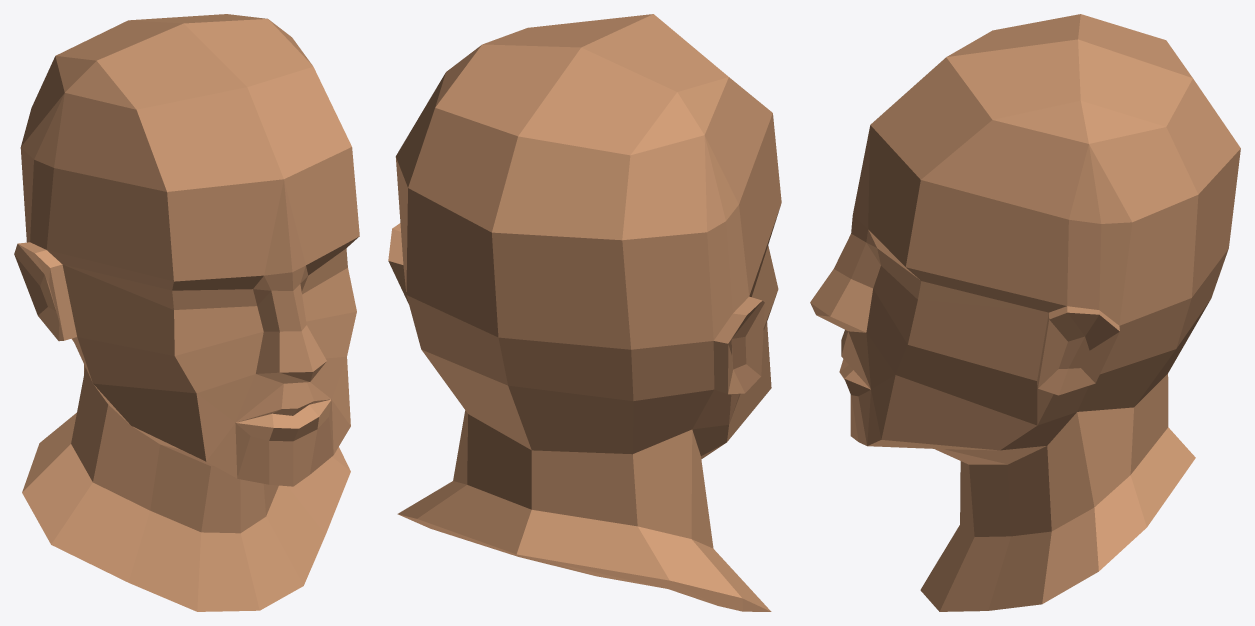
The model's file is low_poly_head_bust_ccby_rindir.glb.
3 renders of one model, left to right at view 1: azimuth 30°, elevation 25°; view 2: azimuth 150°, elevation 25°; view 3: azimuth 270°, elevation 25°, orthographic. The views are drawn at different scales.
Parts seen in each view (by area): view 1: Plane.002; view 2: Plane.002; view 3: Plane.002.
Boxes of the visible parts, x1,y1,x2,y2 form: Plane.002: (14,14,359,611); Plane.002: (388,14,781,611); Plane.002: (810,14,1240,611).
Bounding box in the file's own units: 0.4916 × 0.8009 × 0.5678.
